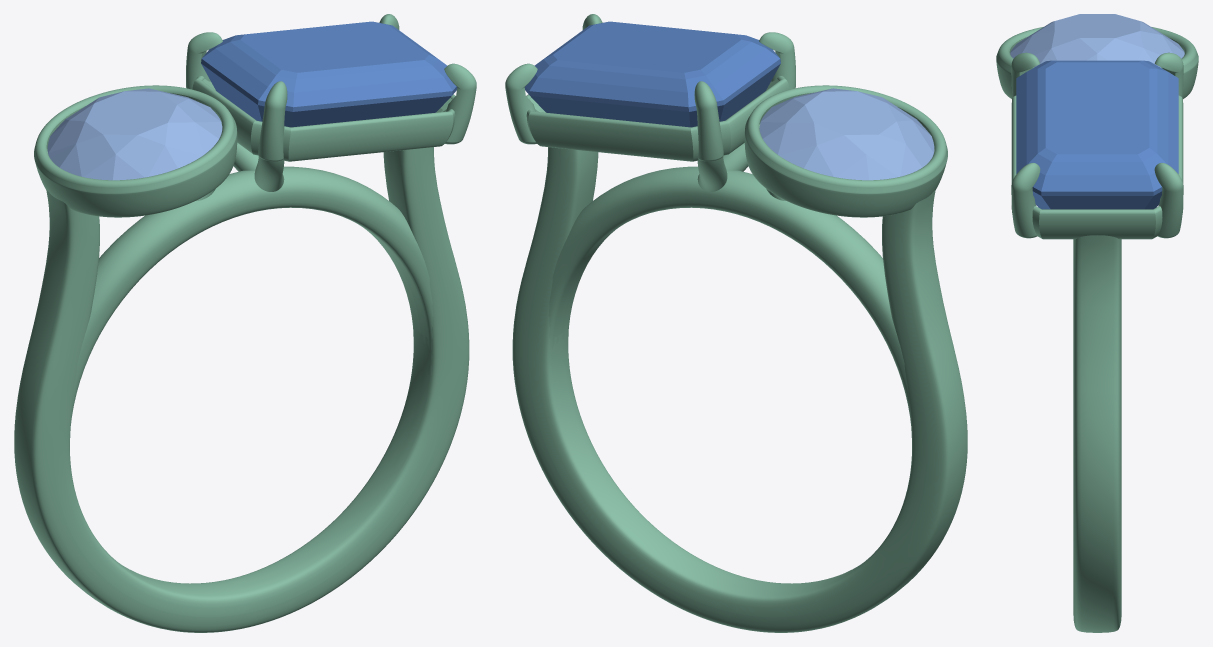
File: LongsMargetTwoStone2.glb
3 renders of one model, left to right at view 1: azimuth 30°, elevation 25°; view 2: azimuth 150°, elevation 25°; view 3: azimuth 270°, elevation 25°, orthographic.
Visible parts, largest first — view 1: LongsMargetTwoStone2.3dm, Gem (×2); view 2: LongsMargetTwoStone2.3dm, Gem (×2); view 3: LongsMargetTwoStone2.3dm, Gem (×2).
Boxes of the visible parts, box(x1,y1,x2,y2) form: LongsMargetTwoStone2.3dm: box(14, 14, 476, 632); Gem (×2): box(47, 21, 457, 180); LongsMargetTwoStone2.3dm: box(505, 14, 967, 632); Gem (×2): box(524, 21, 934, 180); LongsMargetTwoStone2.3dm: box(996, 27, 1198, 632); Gem (×2): box(1010, 14, 1184, 209).
Size of the model in its own units: 2.45 by 3 by 0.9898.
